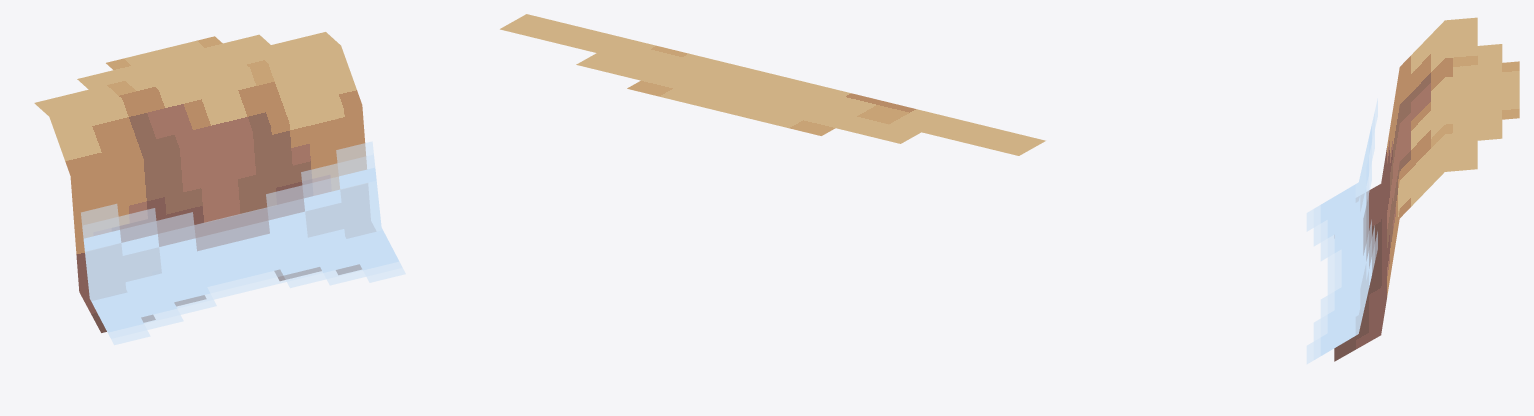
3 views of the same model, side by side, from view 1: azimuth 30°, elevation 25°; view 2: azimuth 150°, elevation 25°; view 3: azimuth 270°, elevation 25° (orthographic). The views are drawn at different scales.
Size of the model in its own units: 1 by 0.7266 by 0.7695.
Materials: 2 (2 with a texture image).
